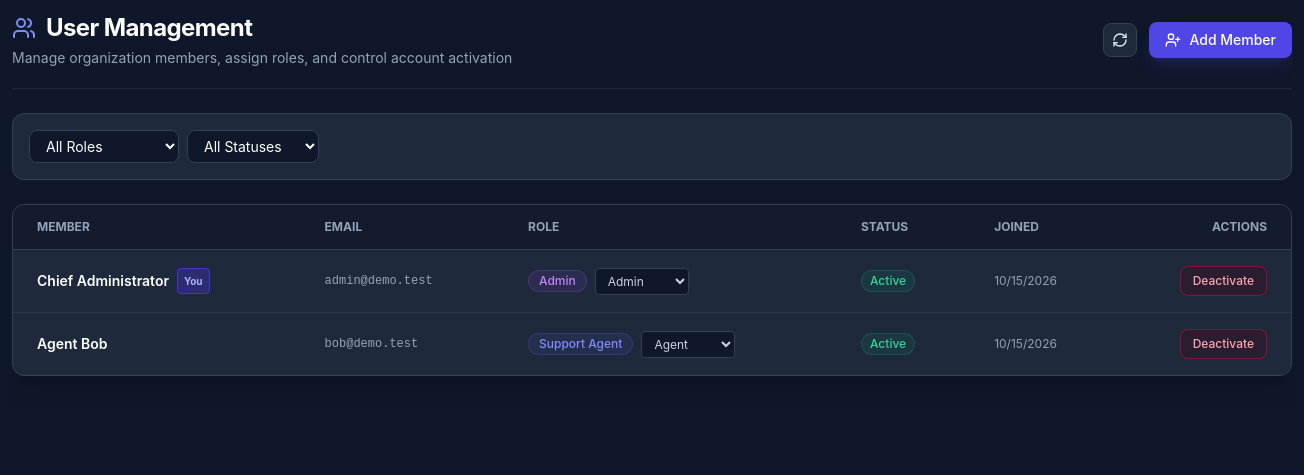
AdminUsers Page Component › updates user role when role select is changed
The image size is (1304, 475).
Expected: the text "Agent Bob" is shown, x1=37 y1=334 x2=108 y2=354
Select "Admin" in the dropdown named "Change role for Agent Bob". click: (688, 344)
box: x1=641 y1=330 x2=735 y2=358
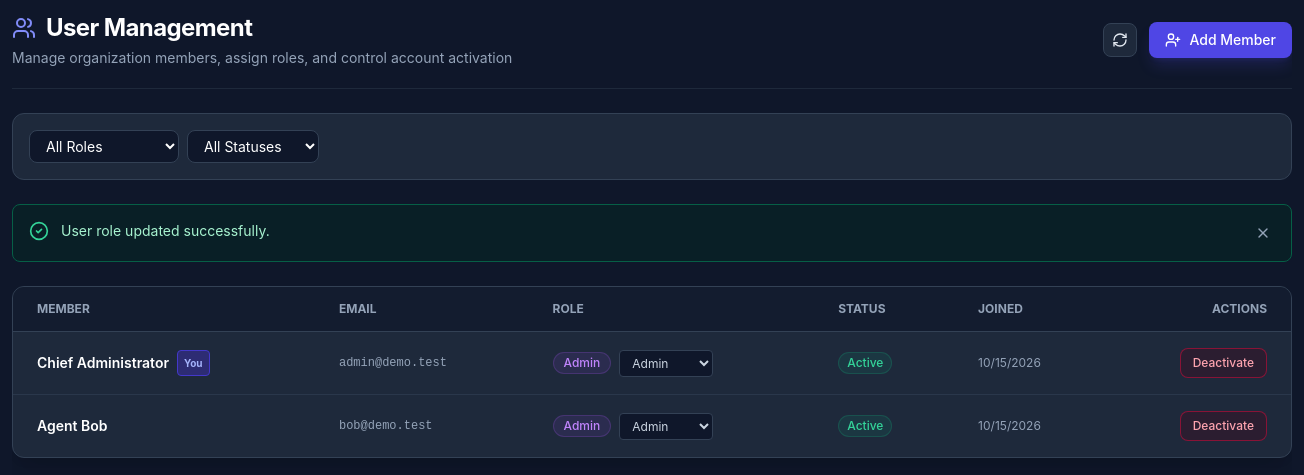
Now the text "User role updated successfully." is shown, box x1=61 y1=222 x2=270 y2=239
